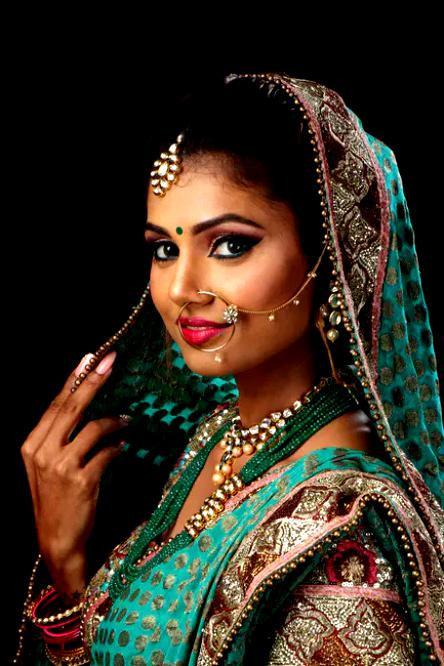face: (145, 159, 311, 373)
